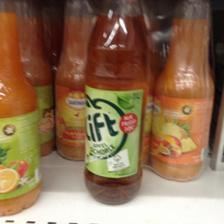Saft: (84, 0, 148, 206), (149, 0, 214, 180), (0, 0, 40, 215)
